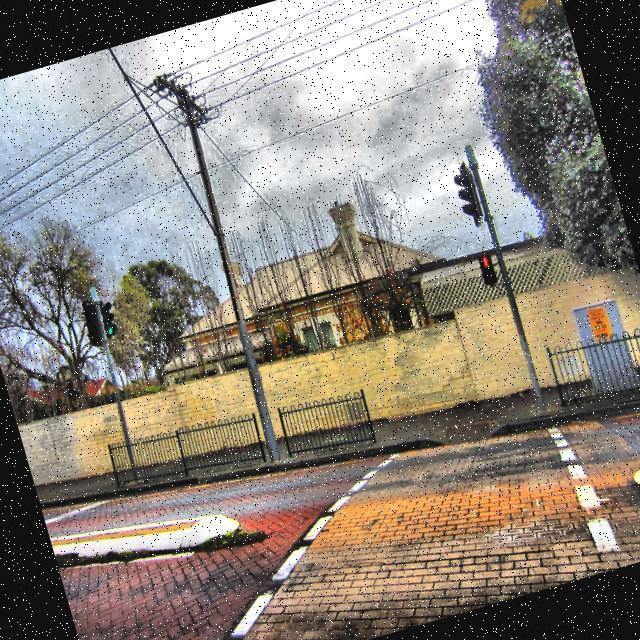red_light: (480, 254, 490, 268)
